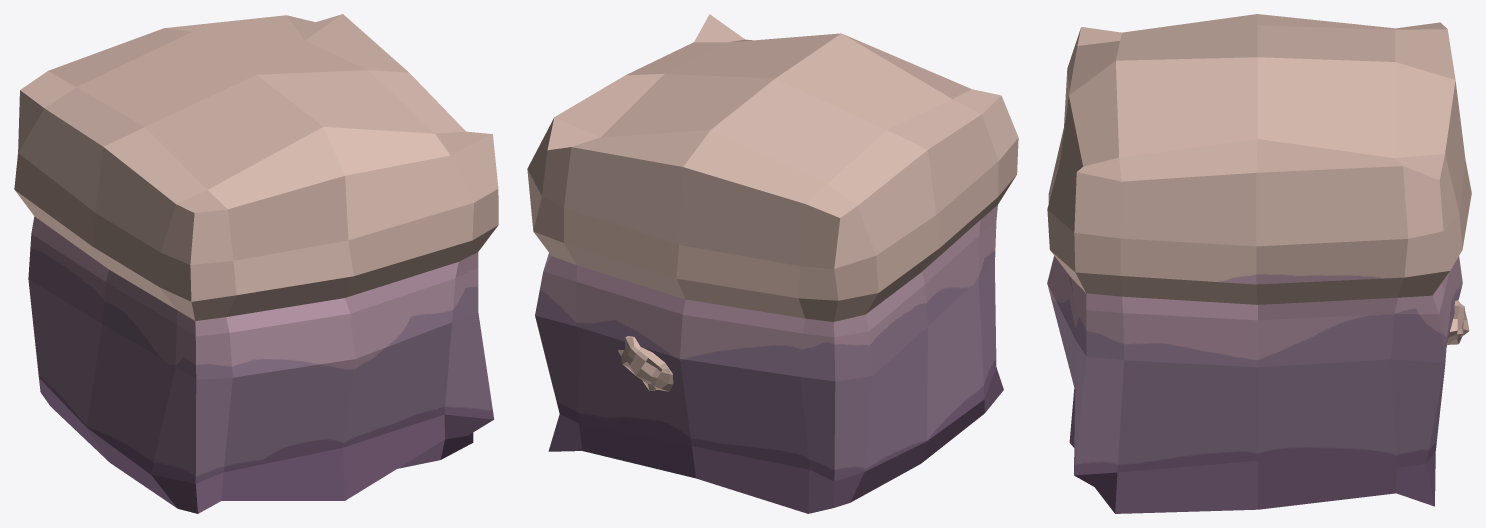
Rendered from blockAbove.obj.
3 renders of one model, left to right at view 1: azimuth 30°, elevation 25°; view 2: azimuth 150°, elevation 25°; view 3: azimuth 270°, elevation 25°, orthographic. The views are drawn at different scales.
Parts seen in each view (by area): view 1: 立方体; view 2: 立方体; view 3: 立方体.
Boxes of the visible parts, bbox=[...] form: 立方体: bbox=[14, 14, 498, 513]; 立方体: bbox=[527, 14, 1018, 513]; 立方体: bbox=[1047, 14, 1471, 513].
Bounding box in the file's own units: 1.09 × 1.08 × 1.07.
